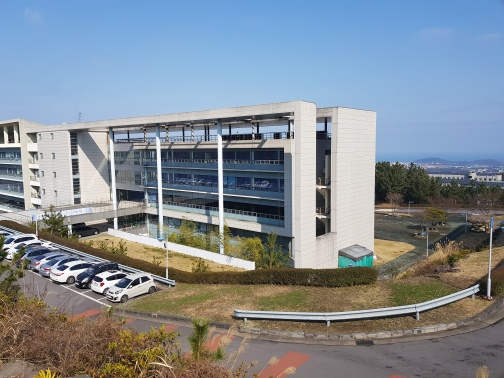Engineering College Building 4: (10, 113, 376, 230), (153, 107, 374, 271), (120, 120, 293, 255)
